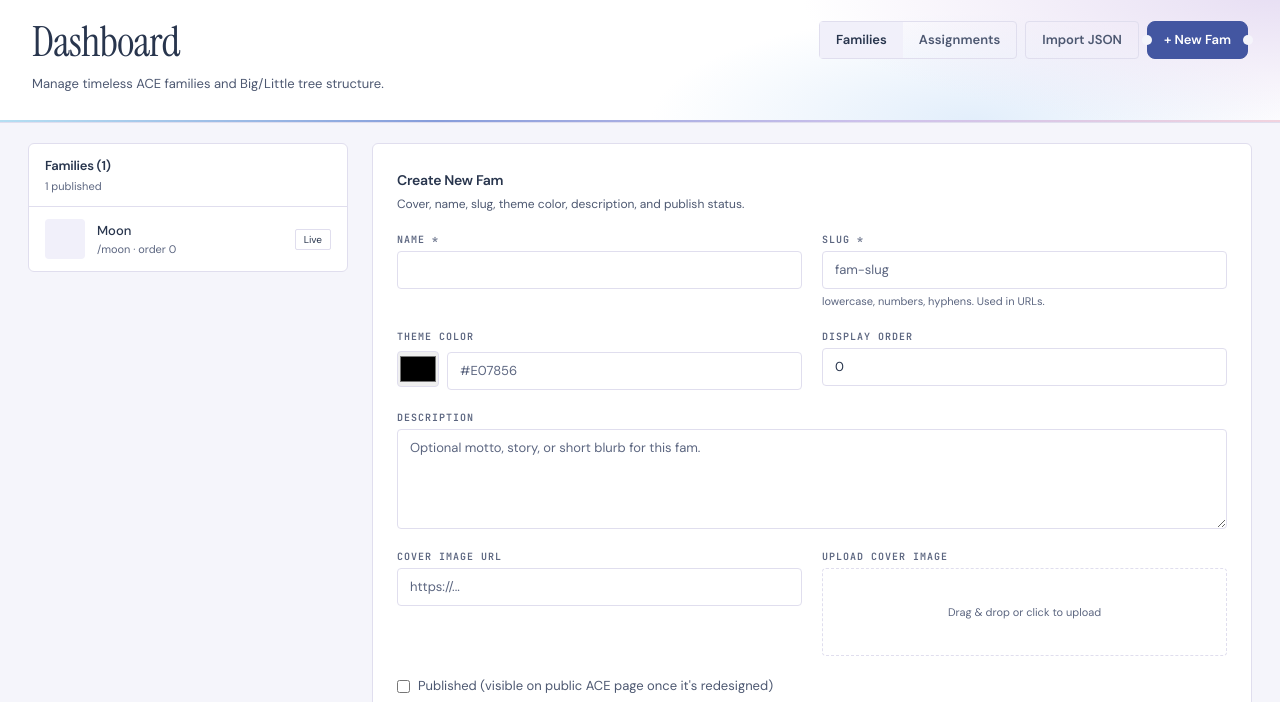
Scenario: linking someone who is already linked elsewhere › asks first, names the existing link, and writes nothing until confirmed
Click the button "Moon /moon · order 0 Live". click: (65, 239)
box: 29,207 -> 347,271
(page scrolled)
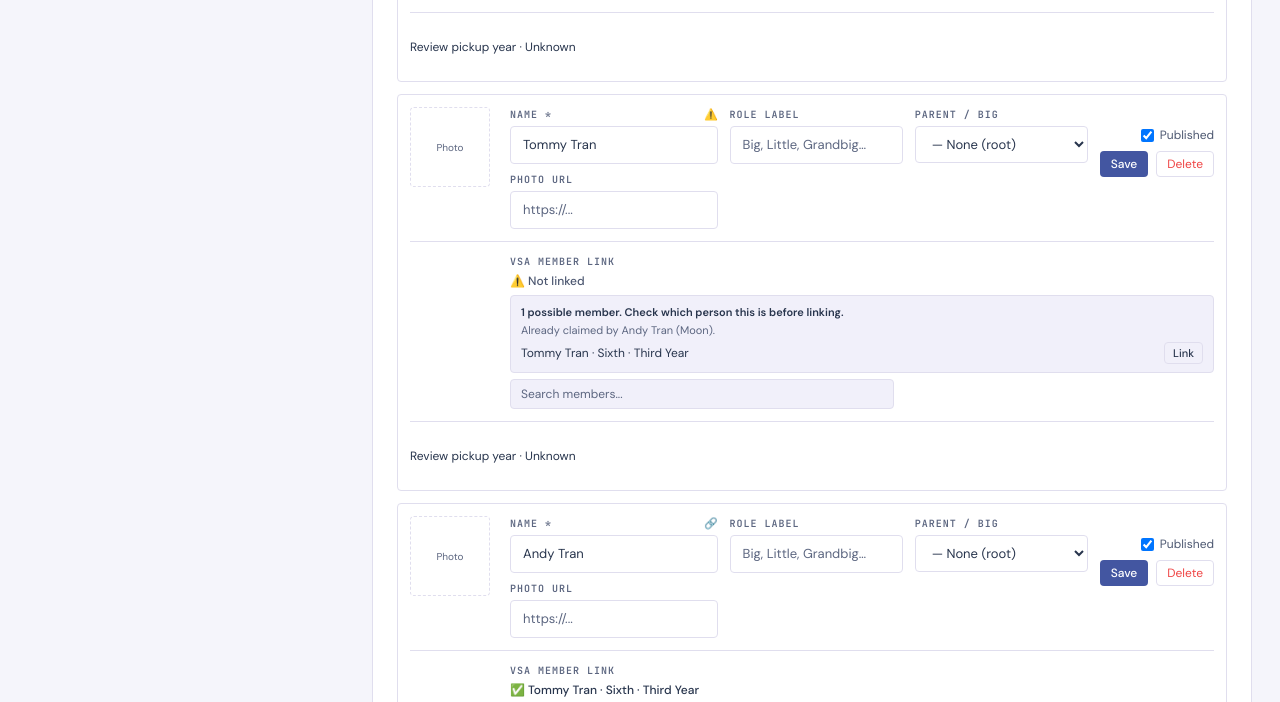
Click the button with aria-label "Link to Tommy Tran · Sixth · Third Year". click: (1184, 353)
box: 1164,342 -> 1203,364
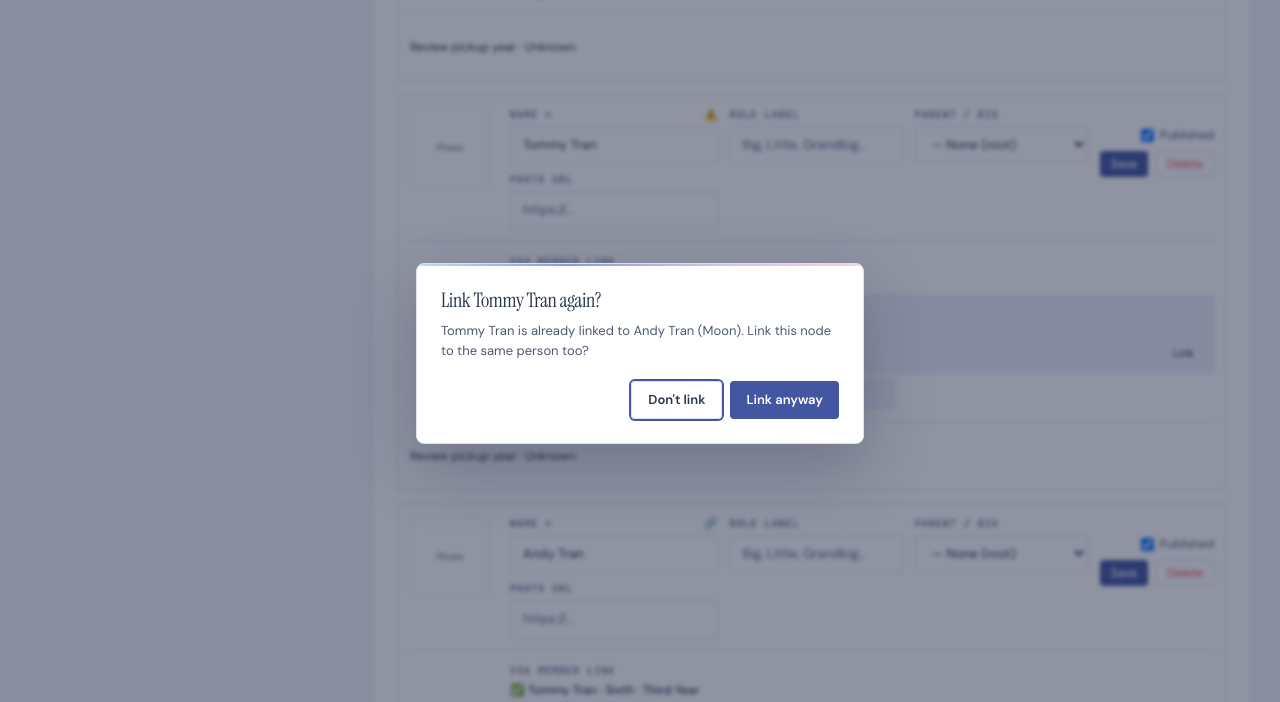
Now the text "Andy Tran" is shown, box 441,322 -> 831,358
